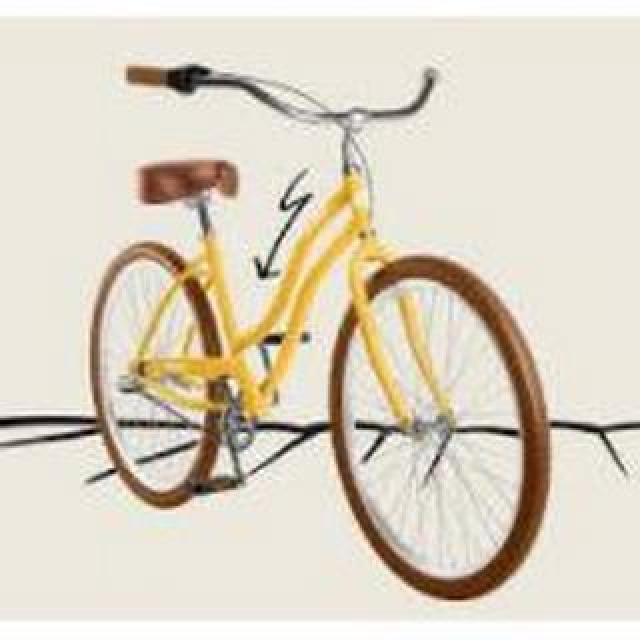Person: (83, 37, 553, 617)
